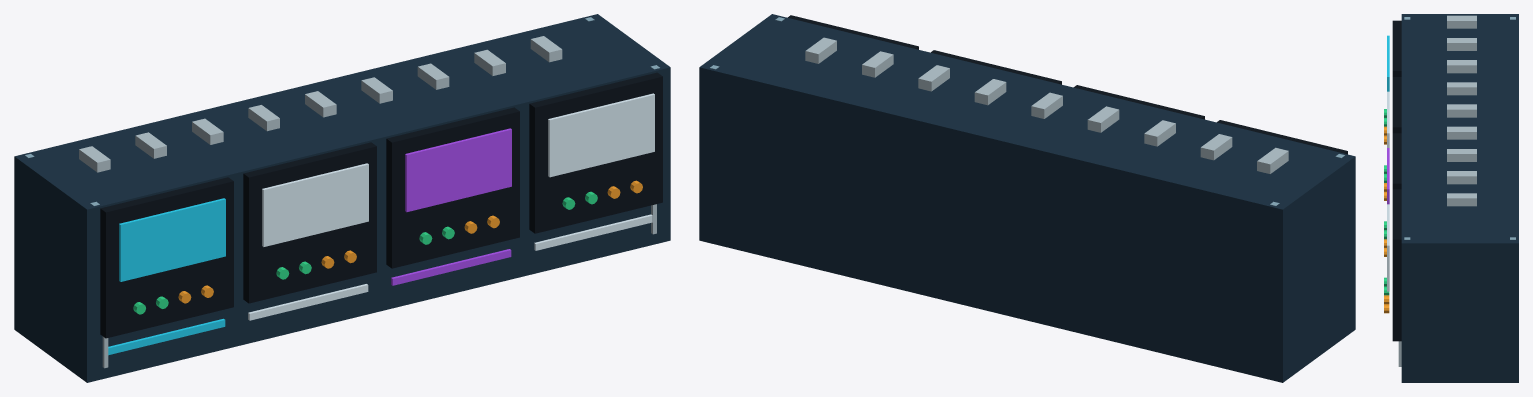
File: 43_L72_FourStageALDCycleSequencer.fbx
The picture shows the model from 3 angles, left to right: view 1: azimuth 30°, elevation 25°; view 2: azimuth 150°, elevation 25°; view 3: azimuth 270°, elevation 25°; orthographic projection. The views are drawn at different scales.
Parts seen in each view (by area): view 1: FourStageALDCycleSequencer; view 2: FourStageALDCycleSequencer; view 3: FourStageALDCycleSequencer.
Boxes of the visible parts, left/top/right/bottom form: FourStageALDCycleSequencer: left=14, top=14, right=670, bottom=382; FourStageALDCycleSequencer: left=699, top=14, right=1355, bottom=382; FourStageALDCycleSequencer: left=1384, top=14, right=1518, bottom=382.
Size of the model in its own units: 310 by 96.5 by 77.
